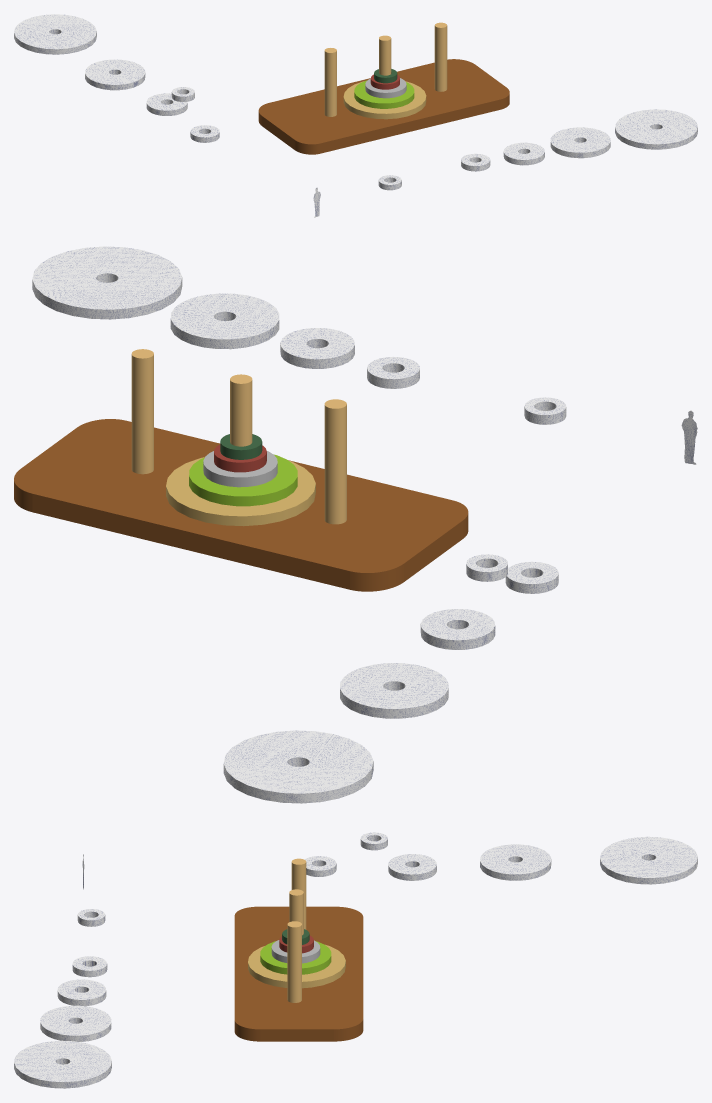
File: hanoi_tower.fbx
3 views of the same model, one above another, from view 1: azimuth 30°, elevation 25°; view 2: azimuth 150°, elevation 25°; view 3: azimuth 270°, elevation 25° (orthographic). The views are drawn at different scales.
Parts seen in each view (by area): view 1: Group10, Model, Group5, Group4, Group11, Group7, Group9, Group12, Group3, Group8, Group13, Group2; view 2: Group10, Model, Group5, Group4, Group11, Group9, Group7, Group12, Group3, Group8, Group2, Group13 (+1 smaller); view 3: Group10, Model, Group5, Group4, Group11, Group7, Group3, Group12, Group9, Group2, Group8, Group13 (+1 smaller).
Part boxes in pixels (<box>): Group10: <box>258,59,509,154</box>; Model: <box>378,109,697,190</box>; Group5: <box>14,14,96,54</box>; Group4: <box>85,59,145,90</box>; Group11: <box>343,81,426,119</box>; Group7: <box>434,22,447,91</box>; Group9: <box>324,48,336,116</box>; Group12: <box>354,80,414,108</box>; Group3: <box>146,93,187,115</box>; Group8: <box>379,35,391,75</box>; Group13: <box>365,78,406,98</box>; Group2: <box>190,125,219,142</box>; Group10: <box>14,419,468,591</box>; Model: <box>32,246,566,424</box>; Group5: <box>223,730,373,803</box>; Group4: <box>340,663,448,718</box>; Group11: <box>166,457,315,526</box>; Group9: <box>324,399,346,524</box>; Group7: <box>131,349,153,474</box>; Group12: <box>189,454,297,506</box>; Group3: <box>420,609,495,649</box>; Group8: <box>230,374,252,446</box>; Group2: <box>505,561,558,593</box>; Group13: <box>203,451,277,487</box>; Group10: <box>234,906,363,1041</box>; Model: <box>14,909,111,1088</box>; Group5: <box>600,836,697,884</box>; Group4: <box>480,844,551,880</box>; Group11: <box>248,944,345,988</box>; Group7: <box>287,921,301,1002</box>; Group3: <box>388,854,436,880</box>; Group12: <box>260,941,331,974</box>; Group9: <box>291,858,306,929</box>; Group2: <box>304,856,336,876</box>; Group8: <box>289,889,303,935</box>; Group13: <box>271,940,320,963</box>.
Bounding box in the file's own units: 1071 × 179 × 1262.
